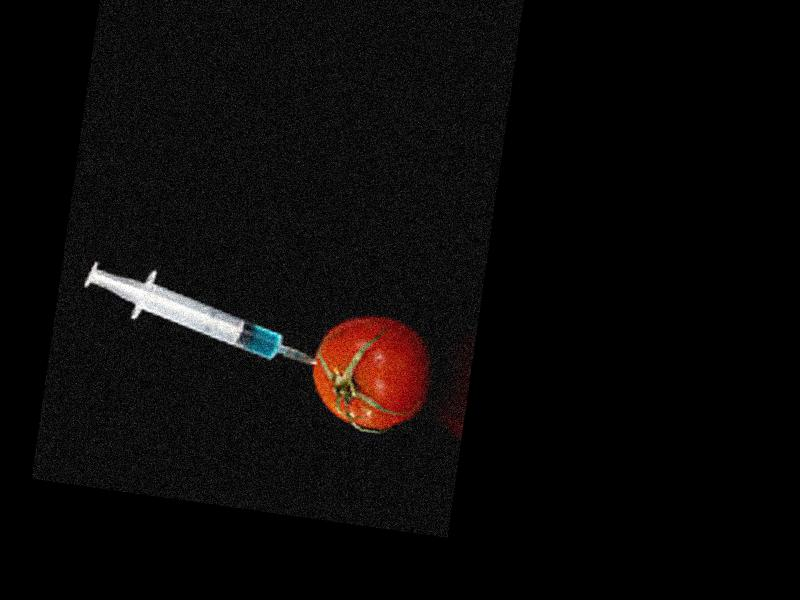Tomato: (304, 307, 434, 438)
